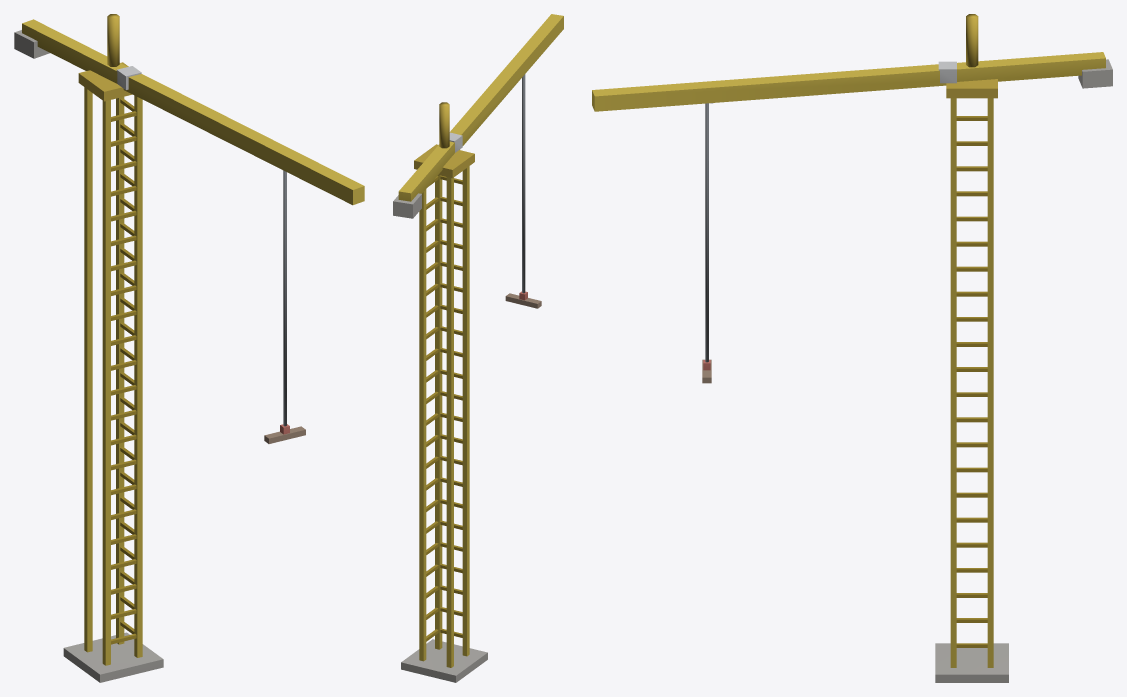
Rendered from crane-2-0.glb.
The picture shows the model from 3 angles, left to right: view 1: azimuth 30°, elevation 25°; view 2: azimuth 150°, elevation 25°; view 3: azimuth 270°, elevation 25°; orthographic projection. The views are drawn at different scales.
Parts seen in each view (by area): view 1: crane-2-0; view 2: crane-2-0; view 3: crane-2-0.
Boxes of the visible parts, <box> form: crane-2-0: <box>14,14,364,682</box>; crane-2-0: <box>393,14,563,682</box>; crane-2-0: <box>592,14,1112,682</box>.
Size of the model in its own units: 0.3617 by 2.33 by 1.69.
